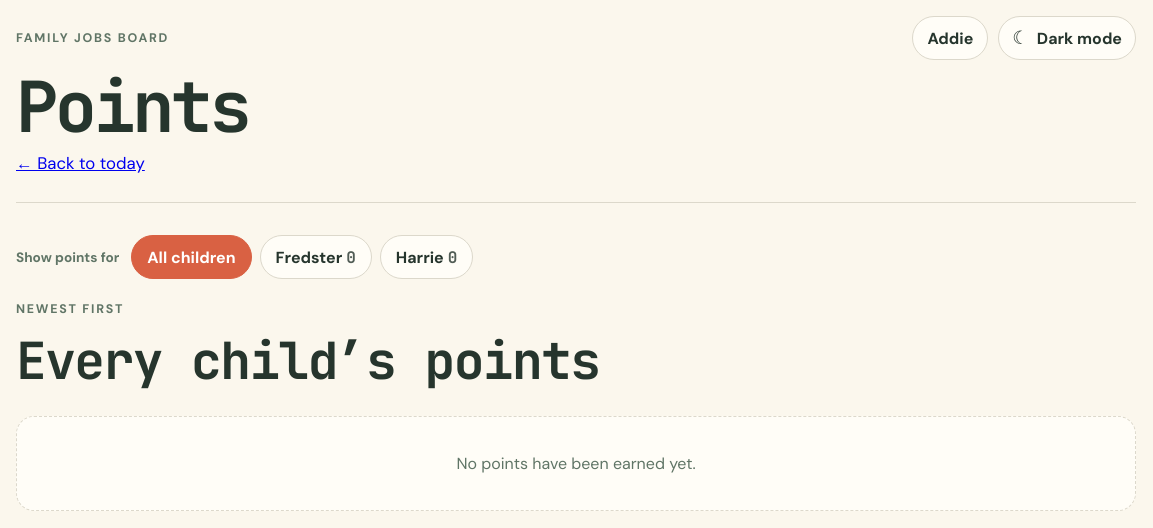
Test: Points ledger › explains when there are no points yet
expect the text "No points have been earned yet." is shown: met, box x1=16 y1=416 x2=1136 y2=511
Click the link named "Harrie 0 points": (427, 257) x1=380 y1=235 x2=473 y2=279
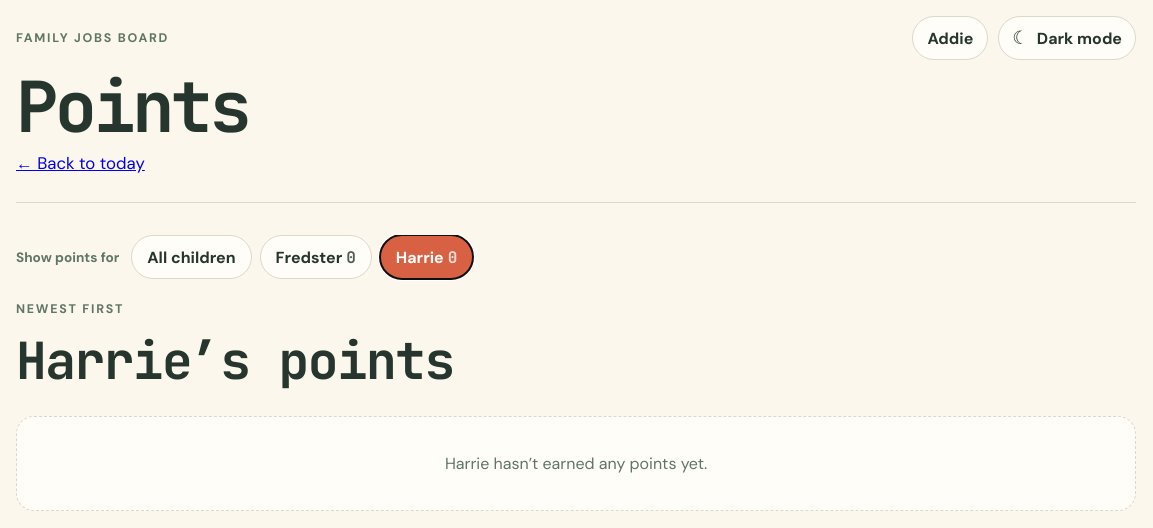
expect the text "Harrie hasn’t earned any points yet." is shown: met, box x1=16 y1=416 x2=1136 y2=511
